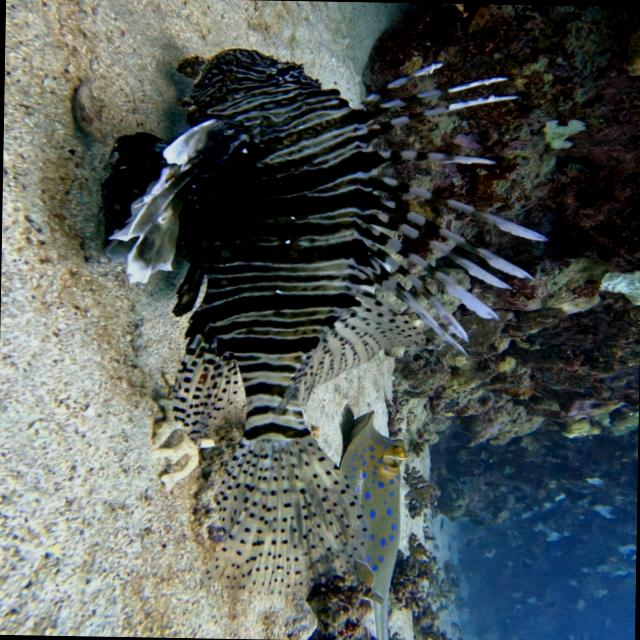Aslan Baligi: (72, 36, 585, 594)
